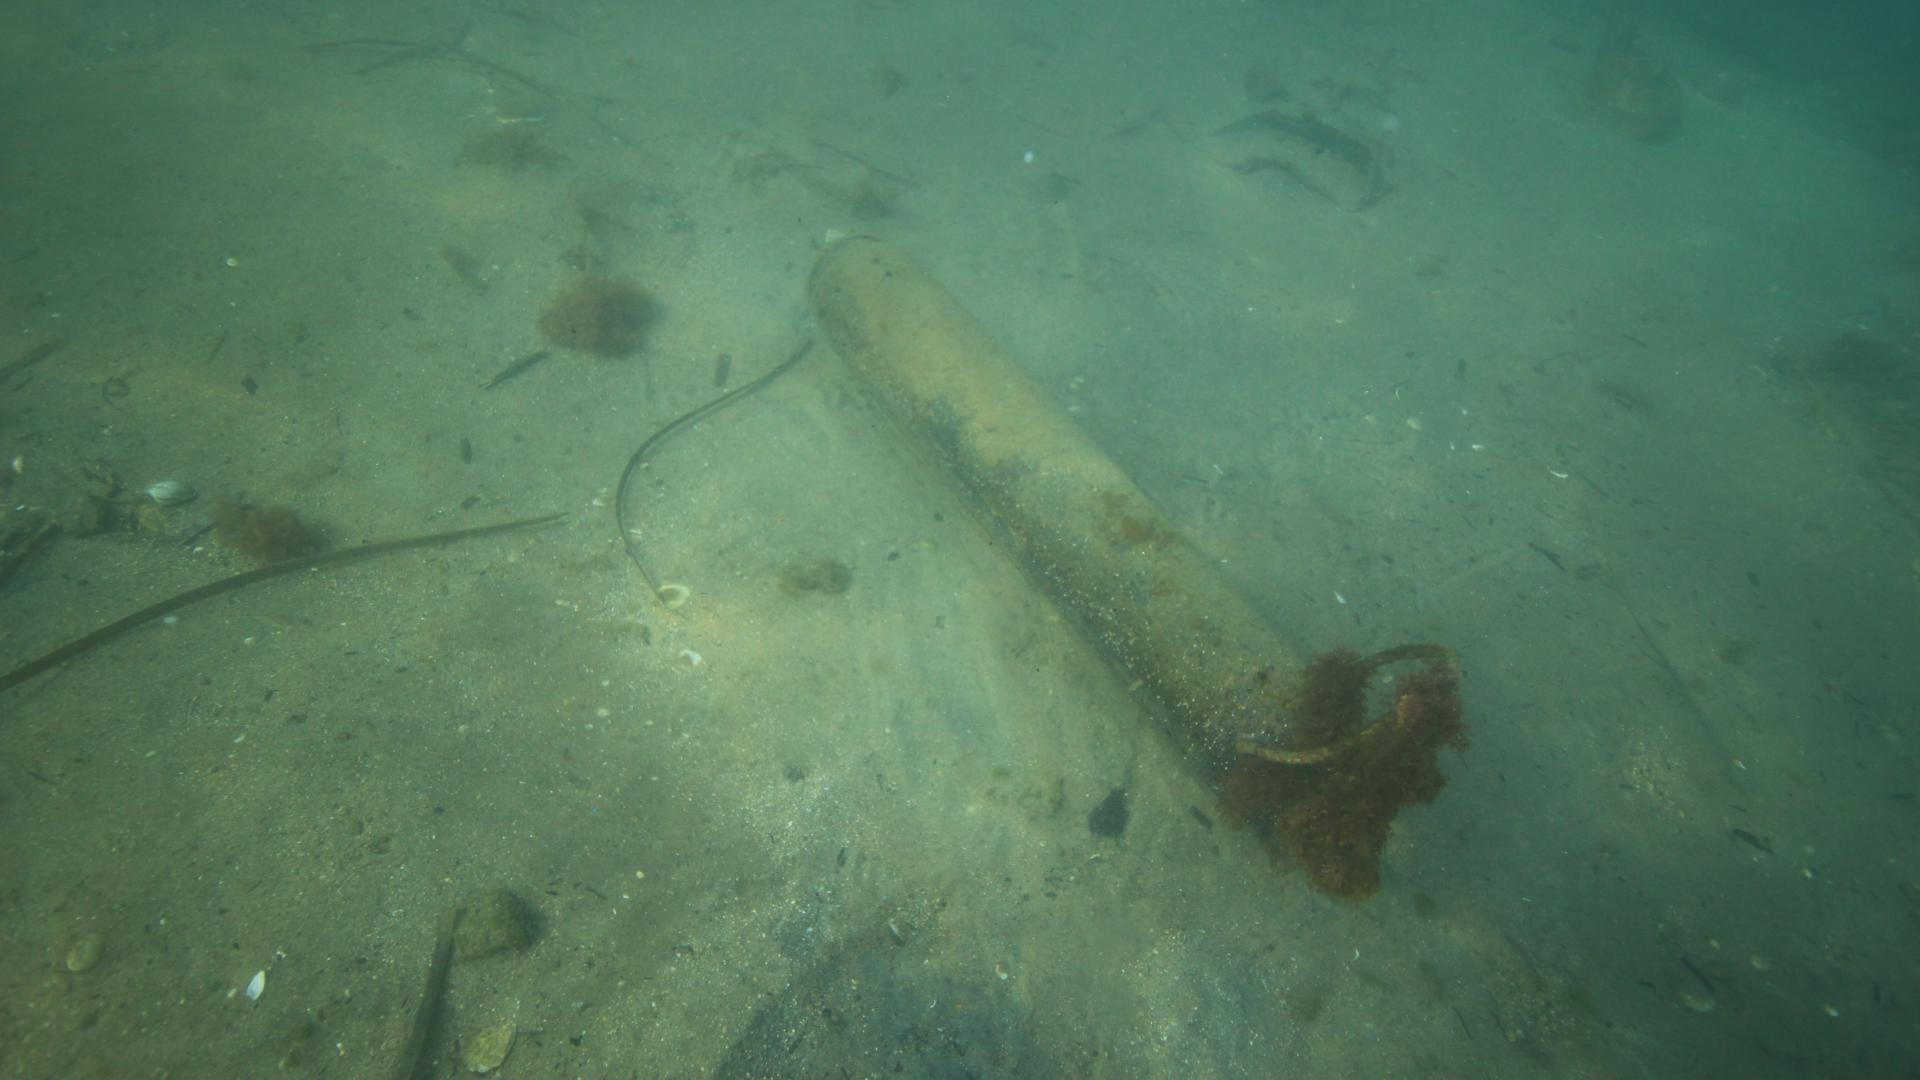bundle of ropes: (1246, 638, 1465, 766)
eel fish trap: (804, 228, 1346, 802)
